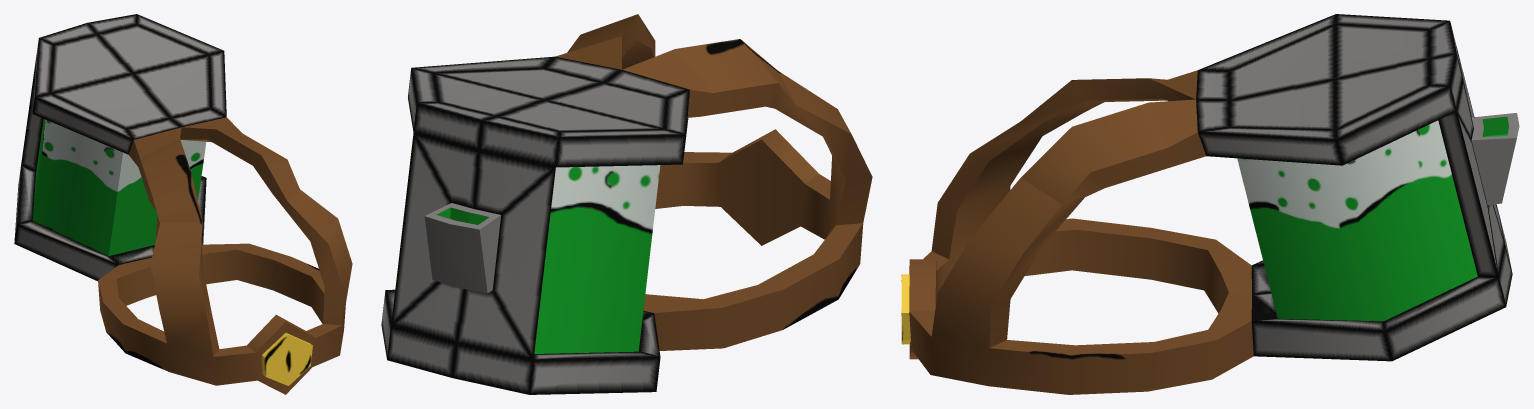
File: GasTank.fbx
3 renders of one model, left to right at view 1: azimuth 30°, elevation 25°; view 2: azimuth 150°, elevation 25°; view 3: azimuth 270°, elevation 25°, orthographic. The views are drawn at different scales.
Parts seen in each view (by area): view 1: GasTank; view 2: GasTank; view 3: GasTank.
Boxes of the visible parts, x1=… form: GasTank: x1=14, y1=14, x2=352, y2=394; GasTank: x1=381, y1=14, x2=872, y2=394; GasTank: x1=901, y1=14, x2=1519, y2=394.
Bounding box in the file's own units: 2.9 × 3.02 × 5.5.
